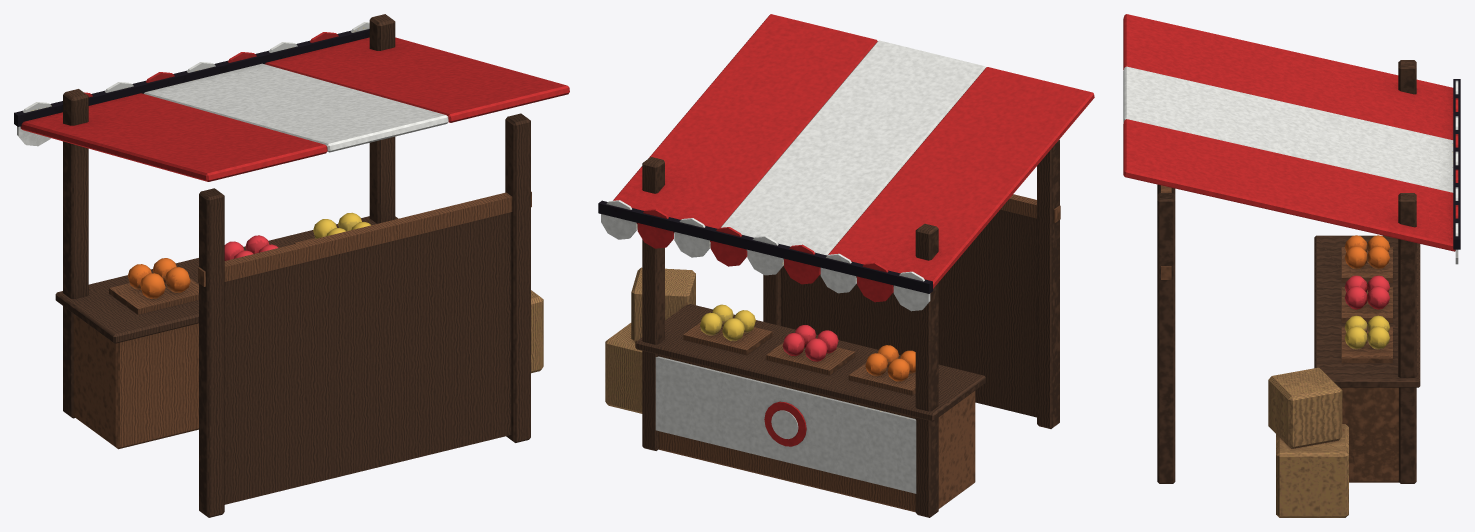
The model's file is festival_stall_white.fbx.
The picture shows the model from 3 angles, left to right: view 1: azimuth 30°, elevation 25°; view 2: azimuth 150°, elevation 25°; view 3: azimuth 270°, elevation 25°; orthographic projection. The views are drawn at different scales.
Parts seen in each view (by area): view 1: festival_stall_white; view 2: festival_stall_white; view 3: festival_stall_white.
Boxes of the visible parts, x1=… form: festival_stall_white: x1=14, y1=14, x2=569, y2=517; festival_stall_white: x1=598, y1=14, x2=1094, y2=517; festival_stall_white: x1=1123, y1=14, x2=1460, y2=517.
Size of the model in its own units: 1200 by 973 by 922.
1 material, 1 textured.
